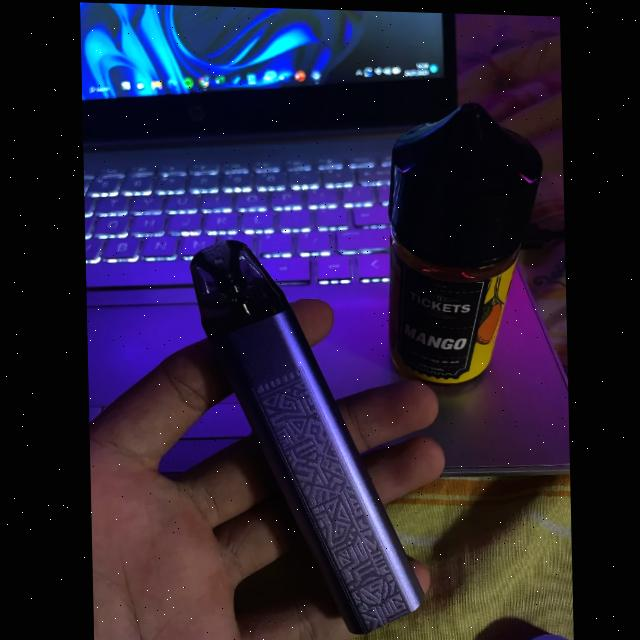vape: (185, 237, 424, 635)
